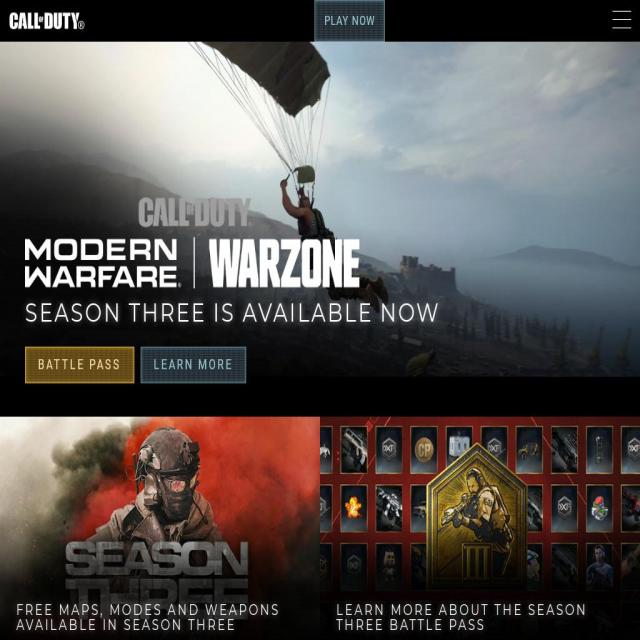navigation-blocks: (6, 411, 640, 640)
options: (607, 3, 640, 36)
